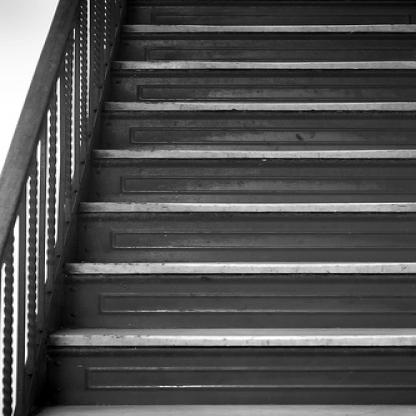stairs: (93, 132, 416, 410)
